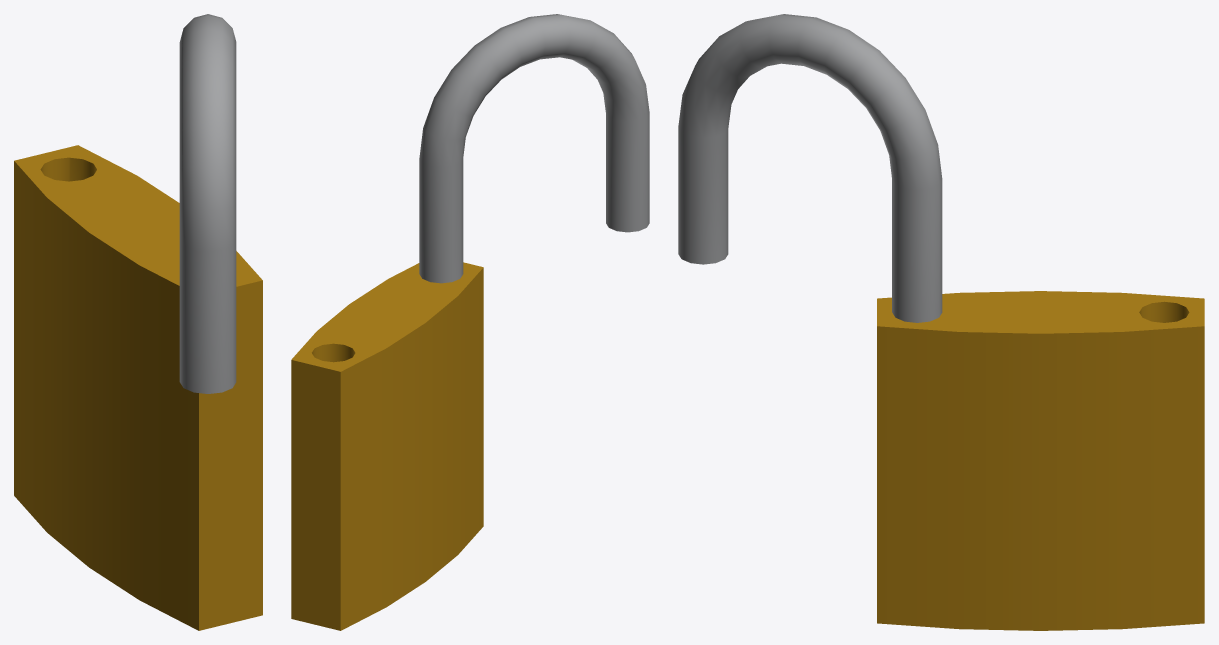
Rendered from gizmo_lock_opened.glb.
3 views of the same model, side by side, from view 1: azimuth 30°, elevation 25°; view 2: azimuth 150°, elevation 25°; view 3: azimuth 270°, elevation 25° (orthographic). The views are drawn at different scales.
Parts seen in each view (by area): view 1: 1.047, 0.075; view 2: 1.047, 0.075; view 3: 1.047, 0.075.
Boxes of the visible parts, <box> form: 1.047: <box>14,145,262,630</box>; 0.075: <box>179,14,236,393</box>; 1.047: <box>291,262,483,630</box>; 0.075: <box>419,14,649,283</box>; 1.047: <box>877,291,1204,630</box>; 0.075: <box>678,14,942,322</box>.
Size of the model in its own units: 0.0638 by 0.1994 by 0.1686.
